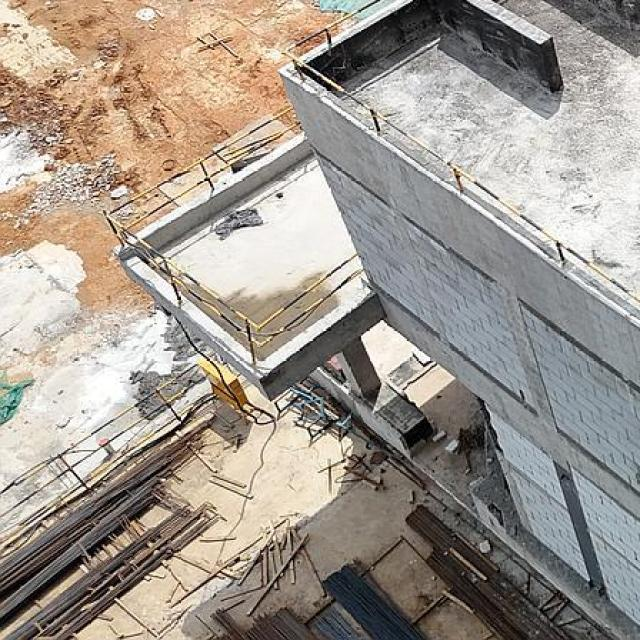edge_guardrail: (280, 0, 640, 304), (105, 104, 368, 365), (0, 361, 216, 545)
